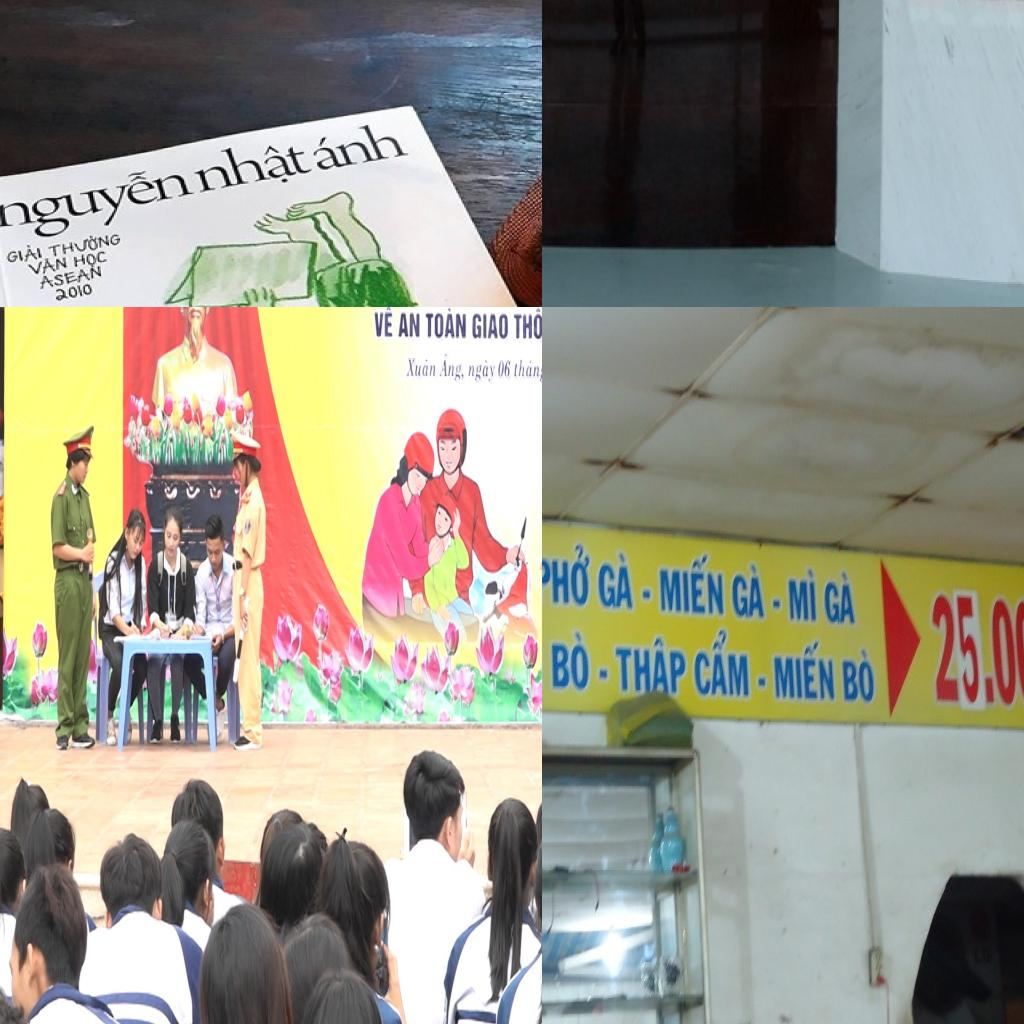text: (0, 158, 203, 247), (932, 593, 1024, 711), (186, 134, 320, 200), (302, 118, 414, 178), (613, 632, 688, 696), (658, 550, 725, 617), (693, 624, 750, 696), (772, 638, 836, 701), (542, 541, 592, 607), (46, 229, 124, 259), (596, 551, 636, 609), (551, 633, 590, 691), (730, 562, 768, 619), (38, 264, 106, 294), (841, 648, 877, 704), (824, 567, 857, 625), (785, 567, 818, 622), (422, 307, 468, 342), (470, 308, 510, 343), (24, 254, 69, 279), (2, 241, 45, 267), (512, 307, 542, 343), (438, 350, 468, 386), (52, 281, 96, 304), (404, 353, 438, 382), (69, 249, 111, 272), (468, 356, 498, 388), (513, 354, 542, 387), (372, 307, 396, 340), (397, 310, 421, 340), (498, 356, 513, 382), (640, 588, 653, 600), (771, 598, 782, 611), (756, 676, 767, 688), (598, 669, 609, 679)
